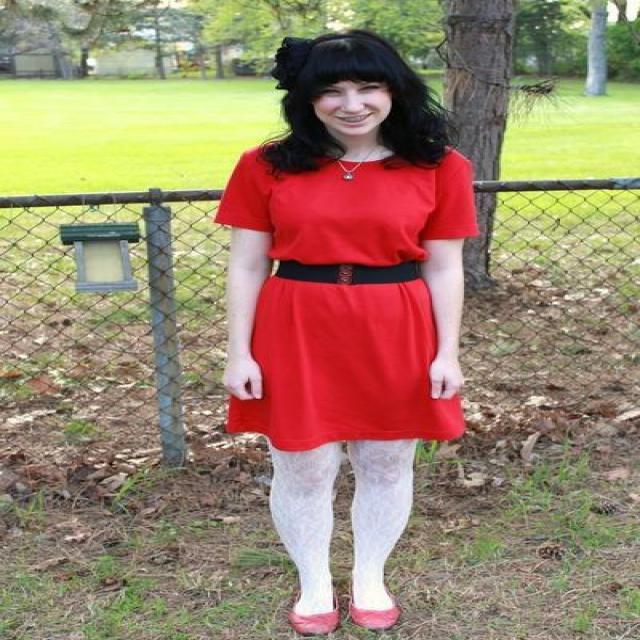dress: (214, 146, 473, 451)
shoe: (291, 595, 397, 639)
